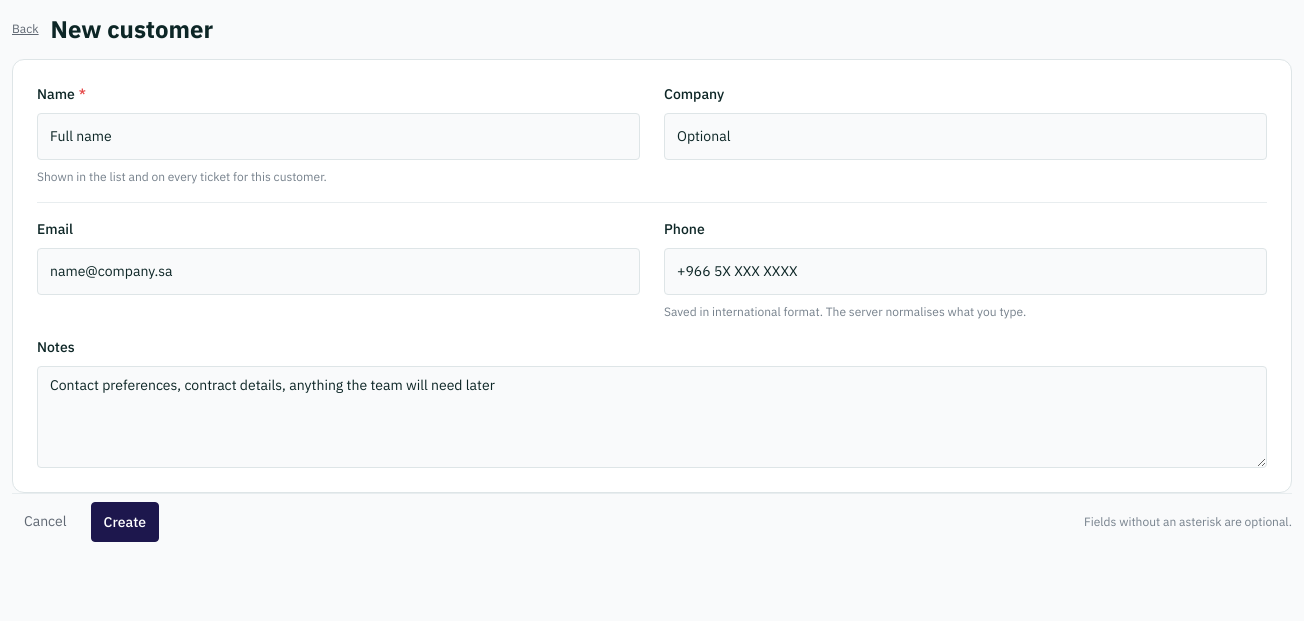
AC-7 — a 400 renders the server’s own message, read as a string › falls back to the problem title when a 400 names no field this form has
Type "Noura Al-Salem" into the field labelled "Name" at {"x": 338, "y": 136}, box [37,113,640,160]
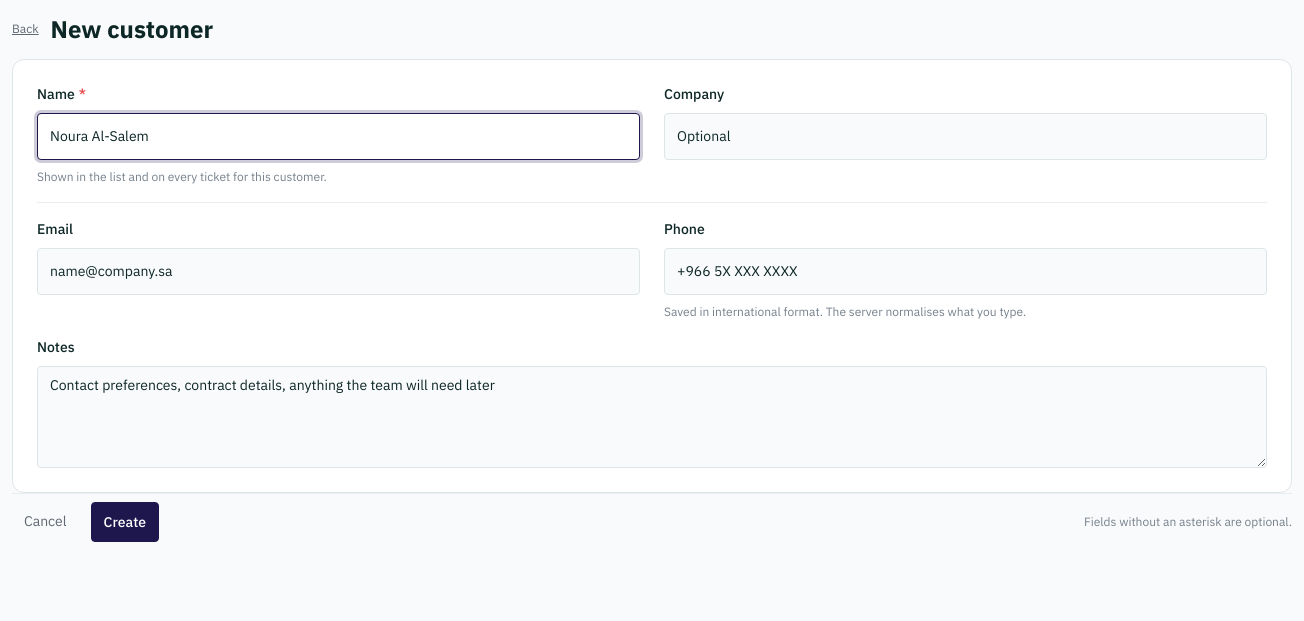
Type "noura@example.com" into the field labelled "Email" at {"x": 338, "y": 271}, box [37,248,640,295]
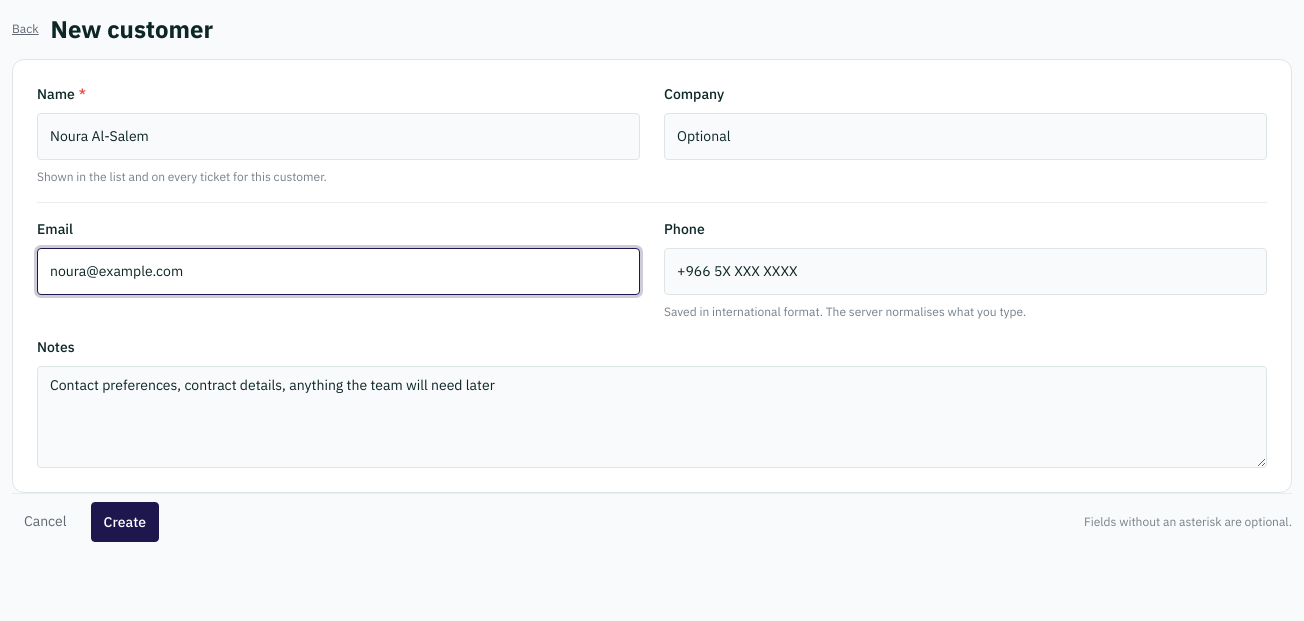
Click the button "Create" at {"x": 125, "y": 522}, box [91,502,159,542]
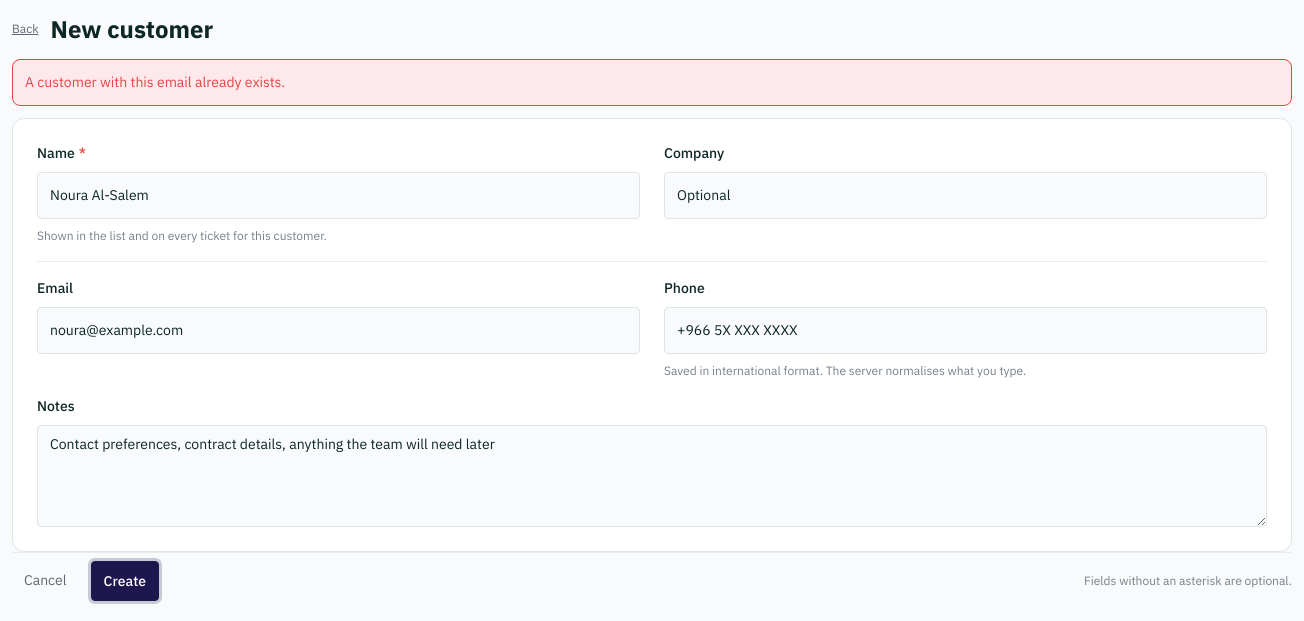
Expected: the message reads "A customer with this email already exists.", [25,73,285,91]
